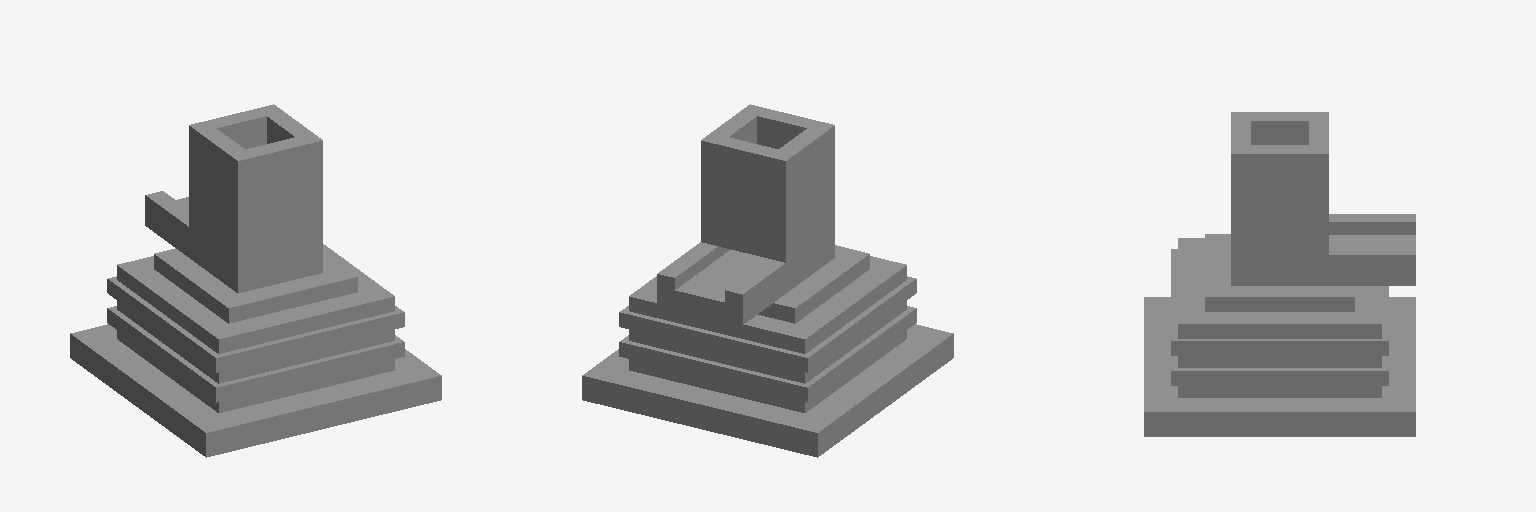
Rendered from Pump.obj.
The picture shows the model from 3 angles: view 1: azimuth 30°, elevation 25°; view 2: azimuth 150°, elevation 25°; view 3: azimuth 270°, elevation 25°; orthographic projection.
Parts seen in each view (by area): view 1: FluidConnector_Cube.022, FloorPlate_Cube.001, Pump_Layer5_Cube.010, Pump_Podest_Cube.009, Pump_Layer4_Cube.008, Pump_Layer2_Cube.012, Pump_Layer3_Cube.002, Pump_Layer1_Cube.011, ConduitCloser.002_Cube.006; view 2: FluidConnector_Cube.022, FloorPlate_Cube.001, Pump_Layer5_Cube.010, Pump_Layer4_Cube.008, Pump_Layer2_Cube.012, Pump_Podest_Cube.009, Pump_Layer3_Cube.002, Pump_Layer1_Cube.011; view 3: FluidConnector_Cube.022, FloorPlate_Cube.001, Pump_Layer5_Cube.010, Pump_Podest_Cube.009, Pump_Layer4_Cube.008, Pump_Layer2_Cube.012, Pump_Layer3_Cube.002, Pump_Layer1_Cube.011, ConduitCloser.002_Cube.006.
Boxes of the visible parts, box(x1,y1,x2,y2) form: FluidConnector_Cube.022: box(145, 104, 322, 293); FloorPlate_Cube.001: box(70, 324, 441, 457); Pump_Layer5_Cube.010: box(117, 244, 394, 353); Pump_Podest_Cube.009: box(154, 248, 357, 323); Pump_Layer4_Cube.008: box(107, 276, 404, 372); Pump_Layer2_Cube.012: box(107, 306, 404, 402); Pump_Layer3_Cube.002: box(117, 301, 394, 383); Pump_Layer1_Cube.011: box(117, 330, 394, 412); ConduitCloser.002_Cube.006: box(199, 235, 305, 270); FluidConnector_Cube.022: box(657, 104, 834, 324); FloorPlate_Cube.001: box(582, 324, 953, 457); Pump_Layer5_Cube.010: box(629, 256, 906, 353); Pump_Layer4_Cube.008: box(619, 276, 916, 372); Pump_Layer2_Cube.012: box(619, 306, 916, 402); Pump_Podest_Cube.009: box(758, 245, 869, 323); Pump_Layer3_Cube.002: box(629, 301, 906, 383); Pump_Layer1_Cube.011: box(629, 330, 906, 412); FluidConnector_Cube.022: box(1231, 112, 1415, 285); FloorPlate_Cube.001: box(1144, 297, 1415, 436); Pump_Layer5_Cube.010: box(1178, 238, 1381, 338); Pump_Podest_Cube.009: box(1205, 234, 1354, 311); Pump_Layer4_Cube.008: box(1171, 249, 1388, 355); Pump_Layer2_Cube.012: box(1171, 356, 1388, 385); Pump_Layer3_Cube.002: box(1178, 356, 1381, 367); Pump_Layer1_Cube.011: box(1178, 386, 1381, 397); ConduitCloser.002_Cube.006: box(1251, 255, 1308, 267).
Bounding box in the file's own units: 1 × 1 × 1.